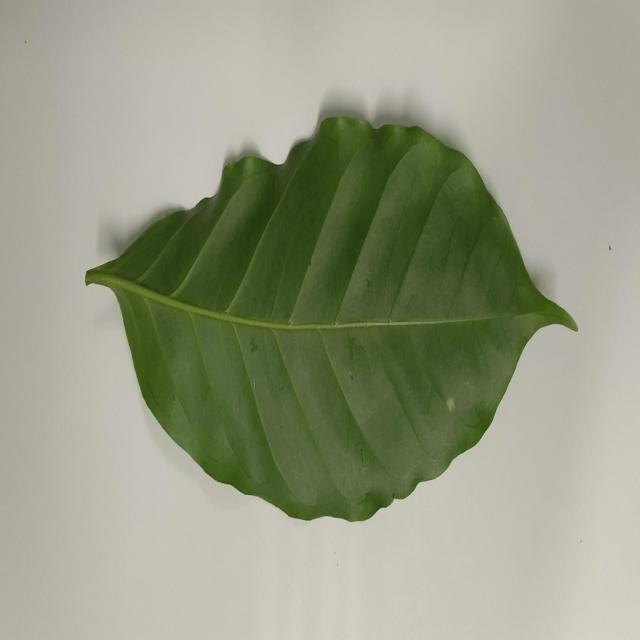Sanas: (82, 115, 579, 526)
